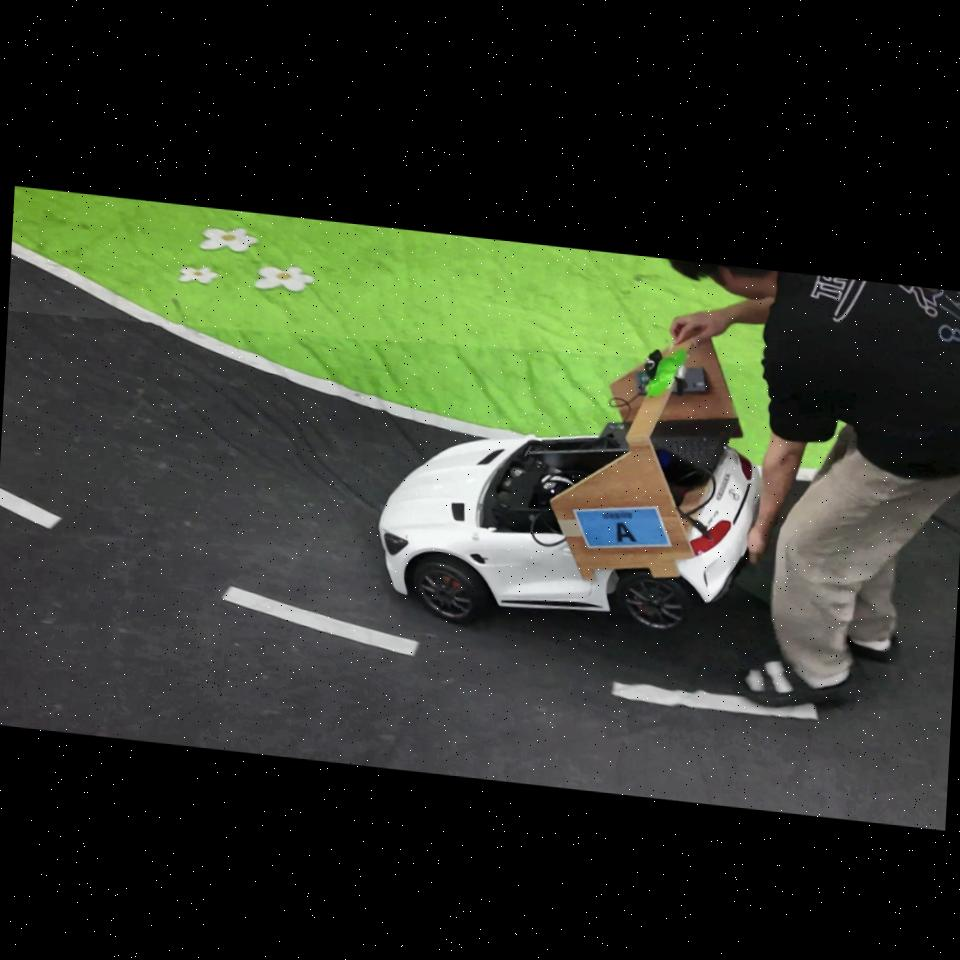broken_line: (221, 586, 420, 657), (611, 681, 819, 721), (0, 487, 63, 530)
